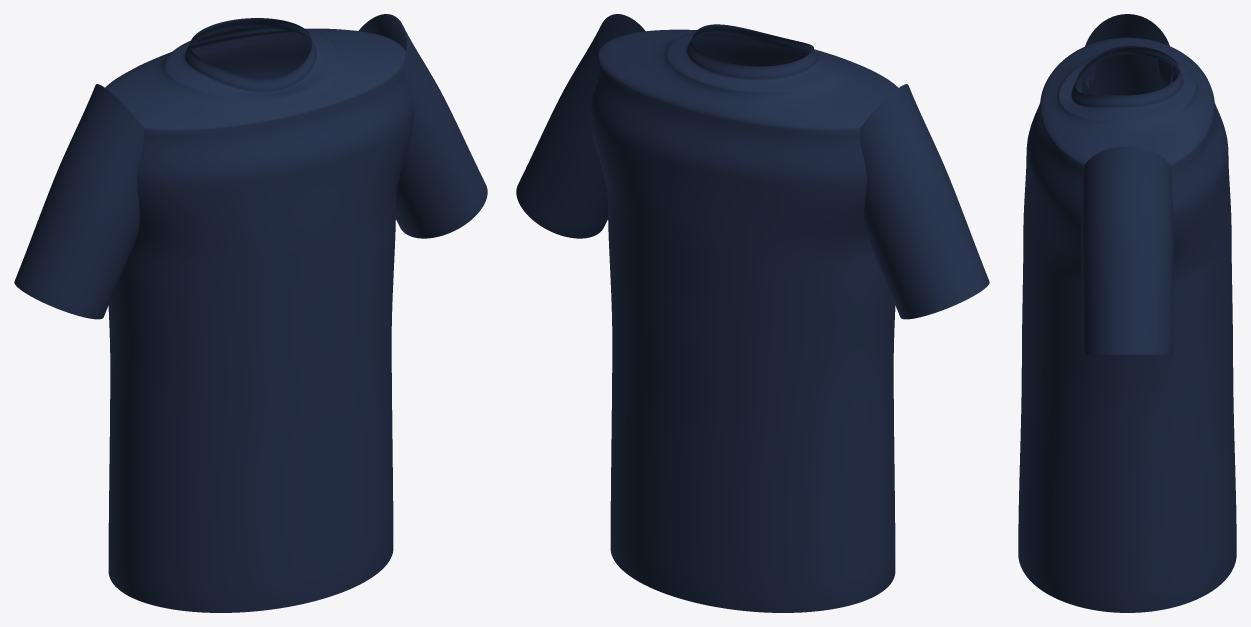
The model's file is demo-relaxed-tee--navy--l.r2.glb.
The picture shows the model from 3 angles, left to right: view 1: azimuth 30°, elevation 25°; view 2: azimuth 150°, elevation 25°; view 3: azimuth 270°, elevation 25°; orthographic projection. The views are drawn at different scales.
Visible parts, largest first — view 1: demo-relaxed-tee--navy--l; view 2: demo-relaxed-tee--navy--l; view 3: demo-relaxed-tee--navy--l.
Part boxes in pixels (bbox=[...]): demo-relaxed-tee--navy--l: bbox=[14, 14, 487, 612]; demo-relaxed-tee--navy--l: bbox=[516, 14, 989, 612]; demo-relaxed-tee--navy--l: bbox=[1018, 14, 1236, 612].
Bounding box in the file's own units: 0.6931 × 0.746 × 0.3057.
